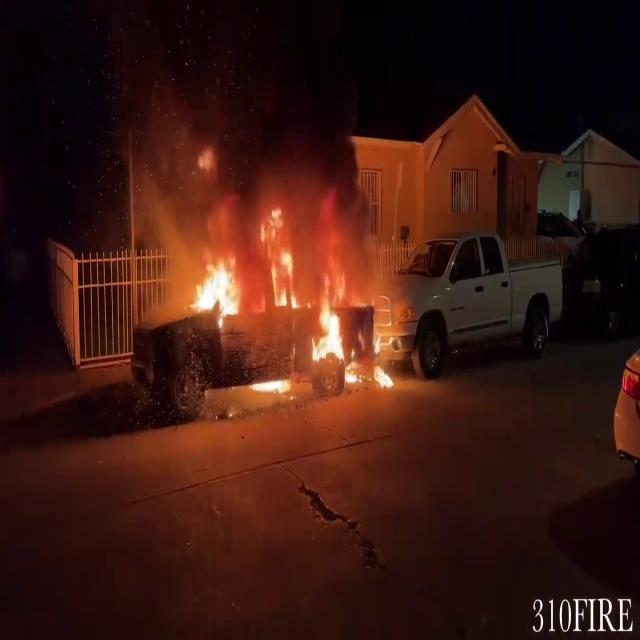Fire: (311, 280, 401, 388), (182, 252, 246, 324)
Smoke: (111, 44, 389, 274)
